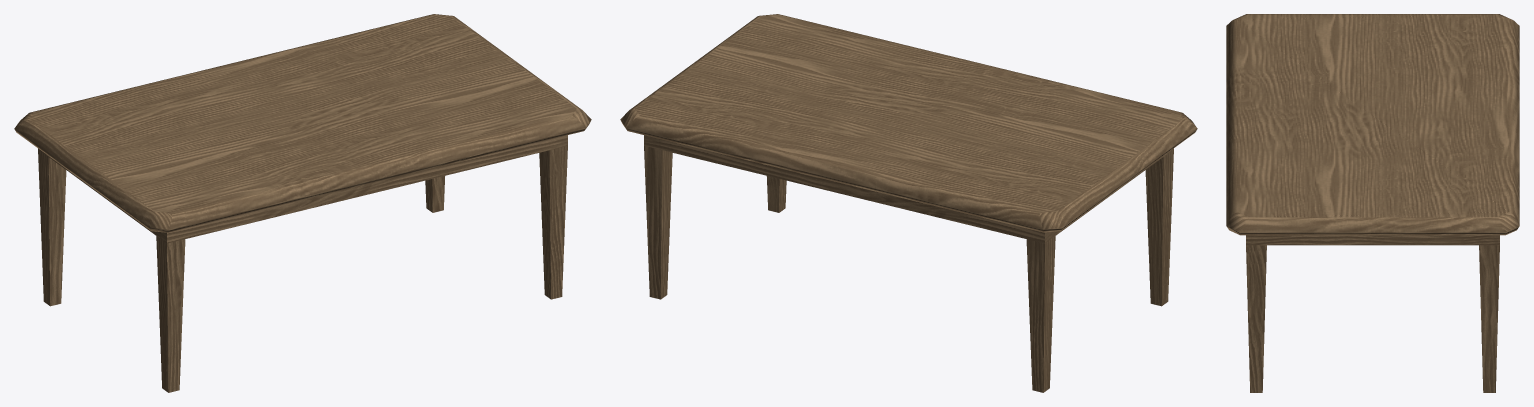
File: kitchen_table_009.fbx
3 renders of one model, left to right at view 1: azimuth 30°, elevation 25°; view 2: azimuth 150°, elevation 25°; view 3: azimuth 270°, elevation 25°, orthographic.
Visible parts, largest first — view 1: kitchen_table_009; view 2: kitchen_table_009; view 3: kitchen_table_009.
Boxes of the visible parts, x1=… form: kitchen_table_009: x1=14, y1=14, x2=591, y2=392; kitchen_table_009: x1=620, y1=14, x2=1197, y2=392; kitchen_table_009: x1=1226, y1=14, x2=1519, y2=392.
Size of the model in its own units: 237 by 138 by 94.76.
